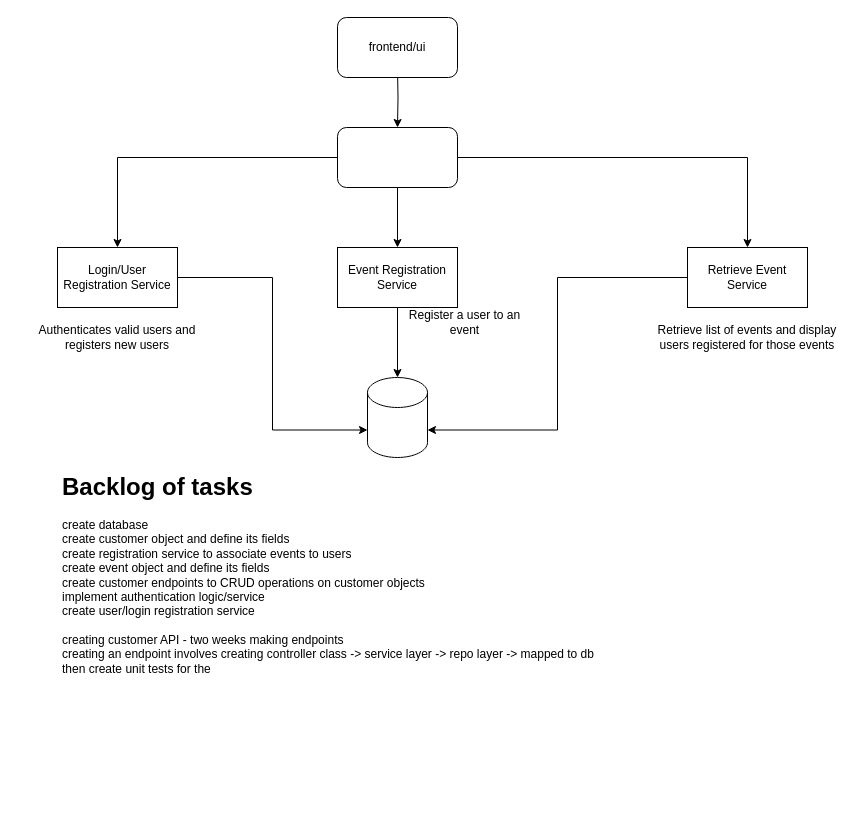
The diagram is 864 pixels wide and 835 high, and some of its shapes have lost their labels. The centre of each missing label's shape, as x and y in pixels:
API: (397,157)
database: (397,417)
